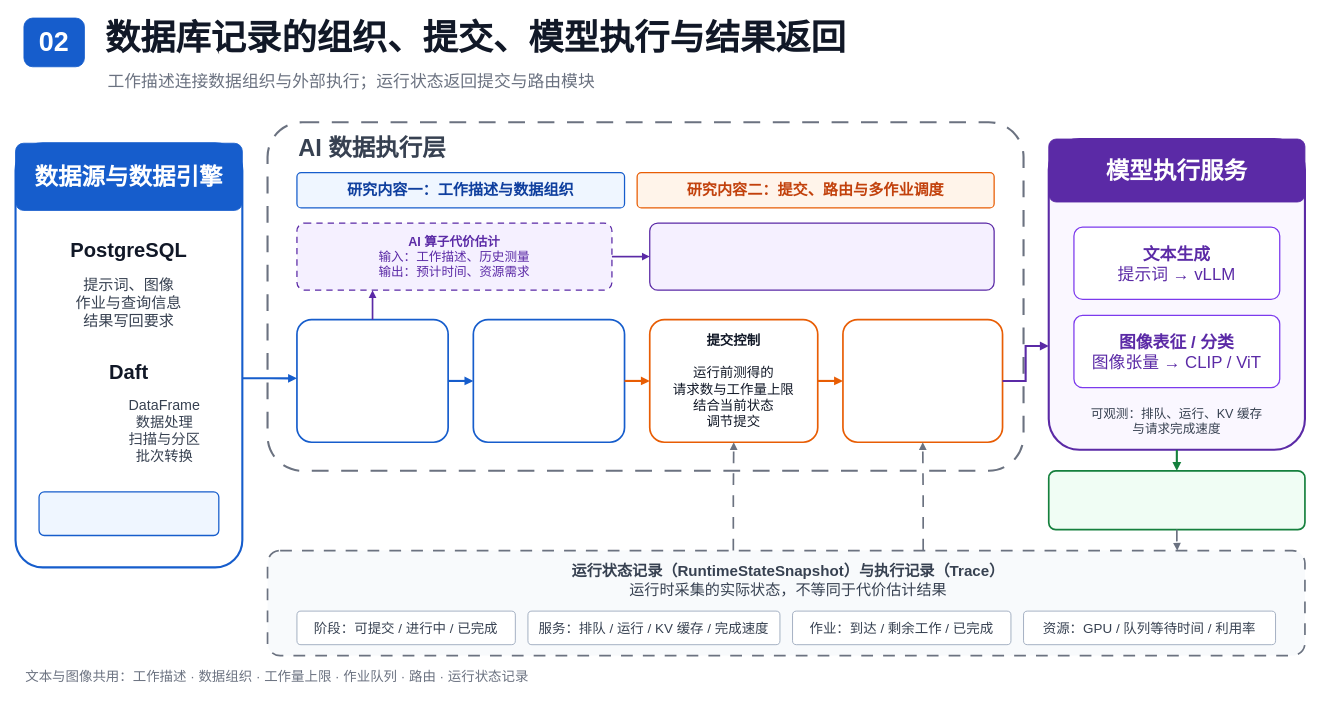
Some shapes in this 1320 by 703 pixel diagram are drawn without their labels. Here are the shapes that lost their labels. From the top down, the centre of each, then its label:
[821,256]: 数据库优化器 / 多 SQL 调度 比较算子执行代价与候选执行安排
[372,380]: 工作描述 WorkDescriptor 分阶段工作 数据局部性 作业身份 · 服务信息
[548,380]: 数据组织 批次工作量上限 均衡 · 局部性 形成批次请求
[922,380]: 路由与 多作业调度 作业与服务实例选择 完成后释放 请求数与工作量
[128,513]: 统一输入字段
[1176,500]: 结果收集与写回 PostgreSQL / pgvector · 结果完整性检查
